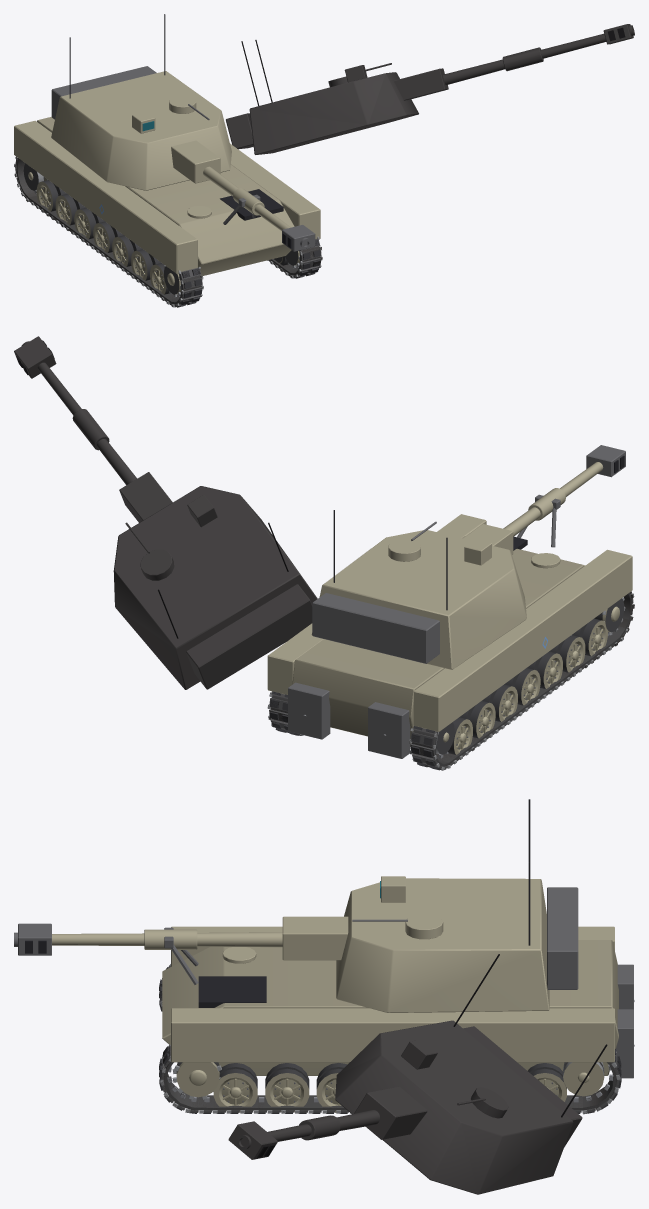
Rendered from artillery__m109a5.glb.
3 views of the same model, one above another, from view 1: azimuth 30°, elevation 25°; view 2: azimuth 150°, elevation 25°; view 3: azimuth 270°, elevation 25° (orthographic). The views are drawn at different scales.
Parts seen in each view (by area): view 1: Hull_Mesh, Turret_Mesh, Wreck, Gun_Mesh, Track_L_Mesh, Track_R_Mesh, Wheel_L3_Mesh, Wheel_L4_Mesh, Wheel_L0_Mesh, Wheel_L2_Mesh, Wheel_L1_Mesh, Wheel_L5_Mesh; view 2: Wreck, Hull_Mesh, Turret_Mesh, Gun_Mesh, Track_L_Mesh, Wheel_L3_Mesh, Wheel_L5_Mesh, Wheel_L2_Mesh, Wheel_L1_Mesh, Wheel_L4_Mesh, Wheel_L6_Mesh, Track_R_Mesh (+1 smaller); view 3: Hull_Mesh, Wreck, Turret_Mesh, Gun_Mesh, Track_R_Mesh, Wheel_R5_Mesh, Wheel_R6_Mesh, Sprocket_R_Mesh, Idler_R_Mesh, Wheel_R4_Mesh, Wheel_R0_Mesh.
Boxes of the visible parts, <box> form: Hull_Mesh: <box>14,117,320,275</box>; Turret_Mesh: <box>51,14,231,190</box>; Wreck: <box>14,24,634,306</box>; Gun_Mesh: <box>171,140,315,251</box>; Track_L_Mesh: <box>14,156,203,307</box>; Track_R_Mesh: <box>267,236,322,278</box>; Wheel_L3_Mesh: <box>93,221,123,252</box>; Wheel_L4_Mesh: <box>112,235,142,266</box>; Wheel_L0_Mesh: <box>36,180,66,211</box>; Wheel_L2_Mesh: <box>74,207,104,239</box>; Wheel_L1_Mesh: <box>55,194,85,225</box>; Wheel_L5_Mesh: <box>131,249,161,280</box>; Wreck: <box>14,336,634,768</box>; Hull_Mesh: <box>267,494,632,758</box>; Turret_Mesh: <box>311,510,526,669</box>; Gun_Mesh: <box>463,445,625,554</box>; Track_L_Mesh: <box>409,592,634,770</box>; Wheel_L3_Mesh: <box>504,668,540,705</box>; Wheel_L5_Mesh: <box>549,635,585,672</box>; Wheel_L2_Mesh: <box>482,684,517,721</box>; Wheel_L1_Mesh: <box>459,701,495,738</box>; Wheel_L4_Mesh: <box>527,651,562,688</box>; Wheel_L6_Mesh: <box>572,618,607,656</box>; Track_R_Mesh: <box>267,691,303,735</box>; Hull_Mesh: <box>162,926,634,1078</box>; Wreck: <box>159,954,620,1194</box>; Turret_Mesh: <box>336,799,578,1012</box>; Gun_Mesh: <box>14,916,348,960</box>; Track_R_Mesh: <box>159,1045,621,1114</box>; Wheel_R5_Mesh: <box>265,1063,309,1112</box>; Wheel_R6_Mesh: <box>213,1063,257,1112</box>; Sprocket_R_Mesh: <box>172,1062,221,1099</box>; Idler_R_Mesh: <box>563,1062,604,1096</box>; Wheel_R4_Mesh: <box>316,1063,347,1112</box>; Wheel_R0_Mesh: <box>528,1063,566,1101</box>.
Size of what is drawn, in the model's own units: 11.33 by 3.87 by 9.16.
